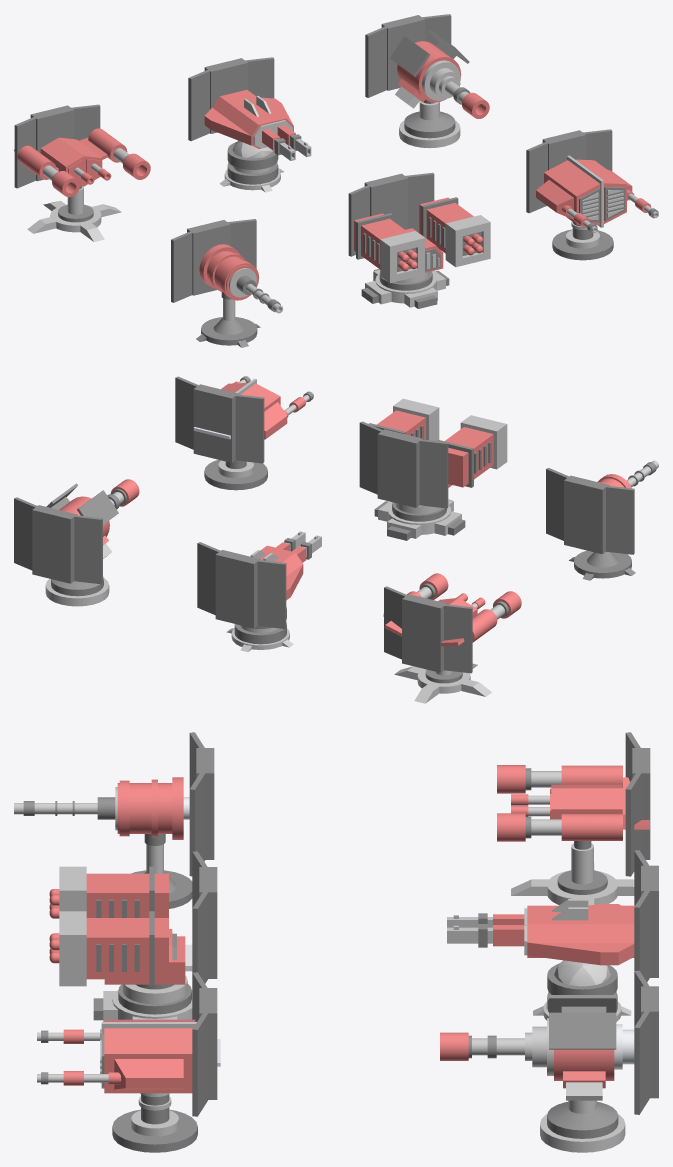
The model's file is free_turret_low_poly.glb.
The picture shows the model from 3 angles, top to bottom: view 1: azimuth 30°, elevation 25°; view 2: azimuth 150°, elevation 25°; view 3: azimuth 270°, elevation 25°; orthographic projection. The views are drawn at different scales.
Parts seen in each view (by area): view 1: mergedBlocks; view 2: mergedBlocks; view 3: mergedBlocks.
Part boxes in pixels (box(x1,y1,x2,y2)): mergedBlocks: box(14, 14, 658, 347); mergedBlocks: box(14, 376, 658, 703); mergedBlocks: box(14, 732, 658, 1152).
Bounding box in the file's own units: 4.99 × 1.04 × 4.53.
